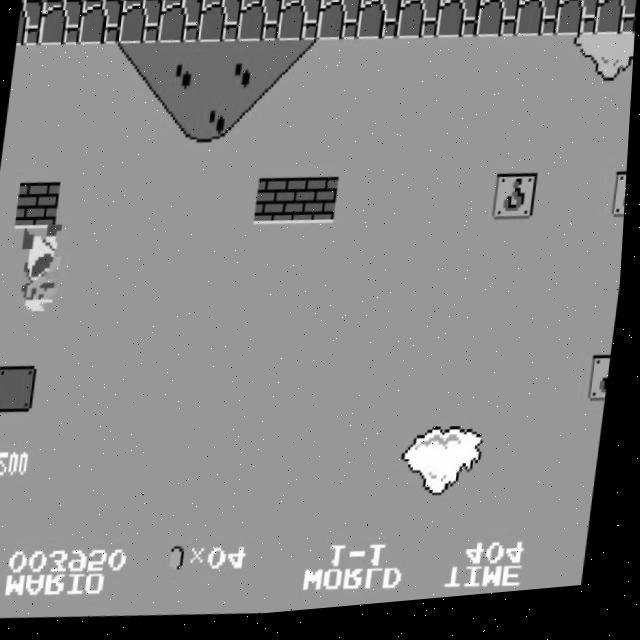1- brick_block: (255, 180, 302, 232), (17, 180, 63, 232), (295, 180, 341, 232), (0, 365, 1, 412)
13- mystery_block: (494, 180, 540, 232), (592, 366, 615, 414), (613, 182, 629, 230)
17- undestructible_block: (117, 0, 164, 49), (77, 0, 124, 48), (157, 0, 204, 48), (276, 0, 323, 48), (38, 0, 84, 49), (197, 0, 243, 49), (237, 0, 283, 49), (316, 0, 362, 49), (396, 0, 442, 49), (515, 0, 561, 49), (356, 0, 402, 48), (436, 0, 482, 48), (476, 0, 522, 48), (555, 0, 601, 48), (595, 0, 638, 48), (16, 0, 43, 47), (440, 0, 485, 3), (480, 0, 525, 3), (162, 0, 206, 3), (202, 0, 246, 3), (241, 0, 285, 3), (361, 0, 405, 3), (401, 0, 445, 3), (520, 0, 564, 3), (560, 0, 604, 3), (43, 0, 86, 3), (600, 0, 639, 3), (122, 0, 166, 2), (281, 0, 325, 2), (321, 0, 365, 2), (83, 0, 126, 2)
3- empty_block: (0, 364, 42, 415)
4- fire_mario: (14, 223, 68, 323)
